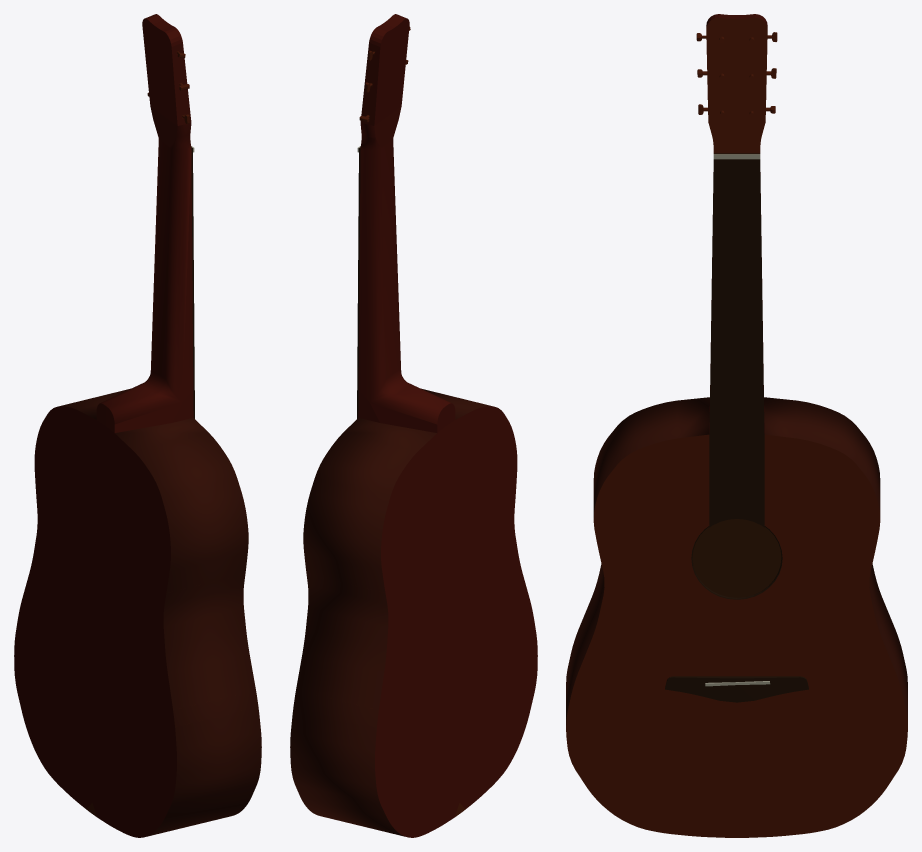
The model's file is Guitar.fbx.
The picture shows the model from 3 angles, left to right: view 1: azimuth 30°, elevation 25°; view 2: azimuth 150°, elevation 25°; view 3: azimuth 270°, elevation 25°; orthographic projection. The views are drawn at different scales.
Parts seen in each view (by area): view 1: Cylinder; view 2: Cylinder; view 3: Cylinder.
Boxes of the visible parts, box(x1,y1,x2,y2) form: Cylinder: box(14, 14, 261, 837); Cylinder: box(290, 14, 537, 837); Cylinder: box(566, 14, 907, 837).
Size of the model in its own units: 12.76 by 101 by 38.47.
